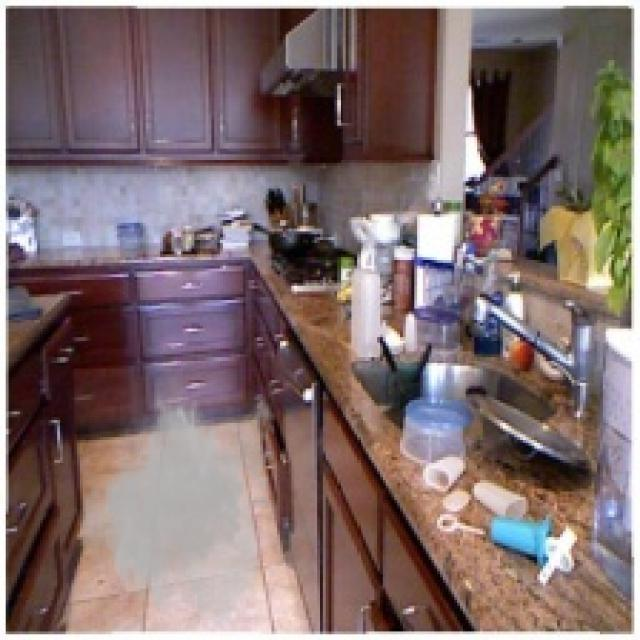Smoke: (74, 368, 283, 632)
